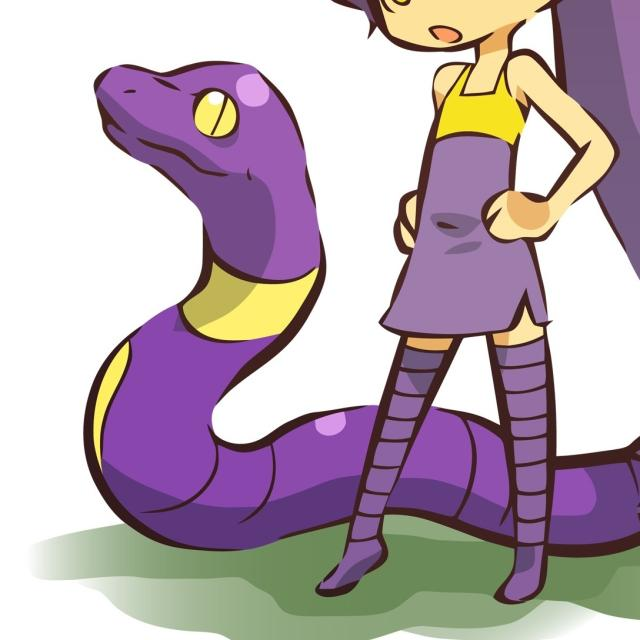Ekans: (85, 51, 366, 553)
